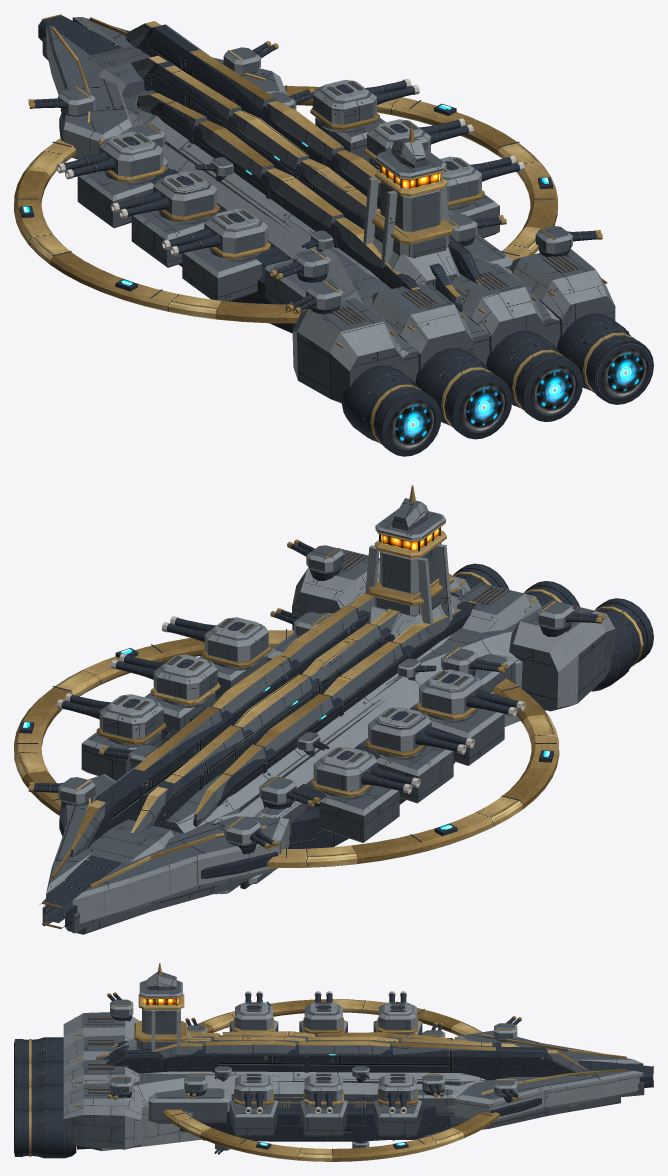
Rendered from authority-arbiter-dark.glb.
3 renders of one model, top to bottom at view 1: azimuth 30°, elevation 25°; view 2: azimuth 150°, elevation 25°; view 3: azimuth 270°, elevation 25°, orthographic. The views are drawn at different scales.
Visible parts, largest first — view 1: hull / Authority ivory, navy and antique gold, interdiction-halo / Authority ivory, navy and antique gold, turret-starboard-1 / Authority ivory, navy and antique gold, turret-port-1 / Authority ivory, navy and antique gold, turret-port-2 / Authority ivory, navy and antique gold, turret-port-3 / Authority ivory, navy and antique gold, turret-starboard-3 / Authority ivory, navy and antique gold, turret-starboard-2 / Authority ivory, navy and antique gold, secondary-starboard-4 / Authority ivory, navy and antique go, secondary-port-1 / Authority ivory, navy and antique gold, secondary-port-3 / Authority ivory, navy and antique gold, secondary-port-4 / Authority ivory, navy and antique gold (+2 smaller); view 2: hull / Authority ivory, navy and antique gold, interdiction-halo / Authority ivory, navy and antique gold, turret-starboard-3 / Authority ivory, navy and antique gold, turret-starboard-1 / Authority ivory, navy and antique gold, turret-starboard-2 / Authority ivory, navy and antique gold, turret-port-1 / Authority ivory, navy and antique gold, turret-port-3 / Authority ivory, navy and antique gold, turret-port-2 / Authority ivory, navy and antique gold, secondary-starboard-1 / Authority ivory, navy and antique go, secondary-port-4 / Authority ivory, navy and antique gold, secondary-port-2 / Authority ivory, navy and antique gold, secondary-starboard-4 / Authority ivory, navy and antique go (+4 smaller); view 3: hull / Authority ivory, navy and antique gold, interdiction-halo / Authority ivory, navy and antique gold, turret-port-1 / Authority ivory, navy and antique gold, turret-port-2 / Authority ivory, navy and antique gold, turret-starboard-2 / Authority ivory, navy and antique gold, turret-starboard-1 / Authority ivory, navy and antique gold, turret-starboard-3 / Authority ivory, navy and antique gold, turret-port-3 / Authority ivory, navy and antique gold, hull / Ventral hangar and keel plating, secondary-starboard-1 / Authority ivory, navy and antique go, secondary-port-4 / Authority ivory, navy and antique gold, secondary-starboard-4 / Authority ivory, navy and antique go (+3 smaller).
Part boxes in pixels (x1,y1,x2,y2): hull / Authority ivory, navy and antique gold: (38,14,653,456); interdiction-halo / Authority ivory, navy and antique gold: (14,85,557,323); turret-starboard-1 / Authority ivory, navy and antique gold: (310,79,419,130); turret-port-1 / Authority ivory, navy and antique gold: (56,132,166,182); turret-port-2 / Authority ivory, navy and antique gold: (110,171,220,221); turret-port-3 / Authority ivory, navy and antique gold: (161,208,270,259); turret-starboard-3 / Authority ivory, navy and antique gold: (440,155,524,206); turret-starboard-2 / Authority ivory, navy and antique gold: (364,118,473,160); secondary-starboard-4 / Authority ivory, navy and antique go: (535,226,602,253); secondary-port-1 / Authority ivory, navy and antique gold: (28,87,95,115); secondary-port-3 / Authority ivory, navy and antique gold: (269,248,330,279); secondary-port-4 / Authority ivory, navy and antique gold: (286,281,343,313); hull / Authority ivory, navy and antique gold: (40,485,653,934); interdiction-halo / Authority ivory, navy and antique gold: (14,629,559,867); turret-starboard-3 / Authority ivory, navy and antique gold: (161,616,271,667); turret-starboard-1 / Authority ivory, navy and antique gold: (56,693,166,744); turret-starboard-2 / Authority ivory, navy and antique gold: (111,653,220,705); turret-port-1 / Authority ivory, navy and antique gold: (311,746,420,796); turret-port-3 / Authority ivory, navy and antique gold: (416,669,525,719); turret-port-2 / Authority ivory, navy and antique gold: (365,707,474,757); secondary-starboard-1 / Authority ivory, navy and antique go: (28,777,95,804); secondary-port-4 / Authority ivory, navy and antique gold: (536,600,603,628); secondary-port-2 / Authority ivory, navy and antique gold: (259,776,320,806); secondary-starboard-4 / Authority ivory, navy and antique go: (287,539,343,572); hull / Authority ivory, navy and antique gold: (14,963,653,1156); interdiction-halo / Authority ivory, navy and antique gold: (162,998,500,1161); turret-port-1 / Authority ivory, navy and antique gold: (377,991,417,1033); turret-port-2 / Authority ivory, navy and antique gold: (303,991,343,1033); turret-starboard-2 / Authority ivory, navy and antique gold: (303,1073,343,1114); turret-starboard-1 / Authority ivory, navy and antique gold: (377,1073,417,1114); turret-starboard-3 / Authority ivory, navy and antique gold: (234,1073,273,1114); turret-port-3 / Authority ivory, navy and antique gold: (234,991,273,1031); hull / Ventral hangar and keel plating: (23,1102,620,1158); secondary-starboard-1 / Authority ivory, navy and antique go: (494,1078,521,1101); secondary-port-4 / Authority ivory, navy and antique gold: (107,992,133,1016); secondary-starboard-4 / Authority ivory, navy and antique go: (107,1076,133,1100).
Size of the model in its own units: 13.84 by 6.91 by 23.73.
2 materials, 2 textured.
